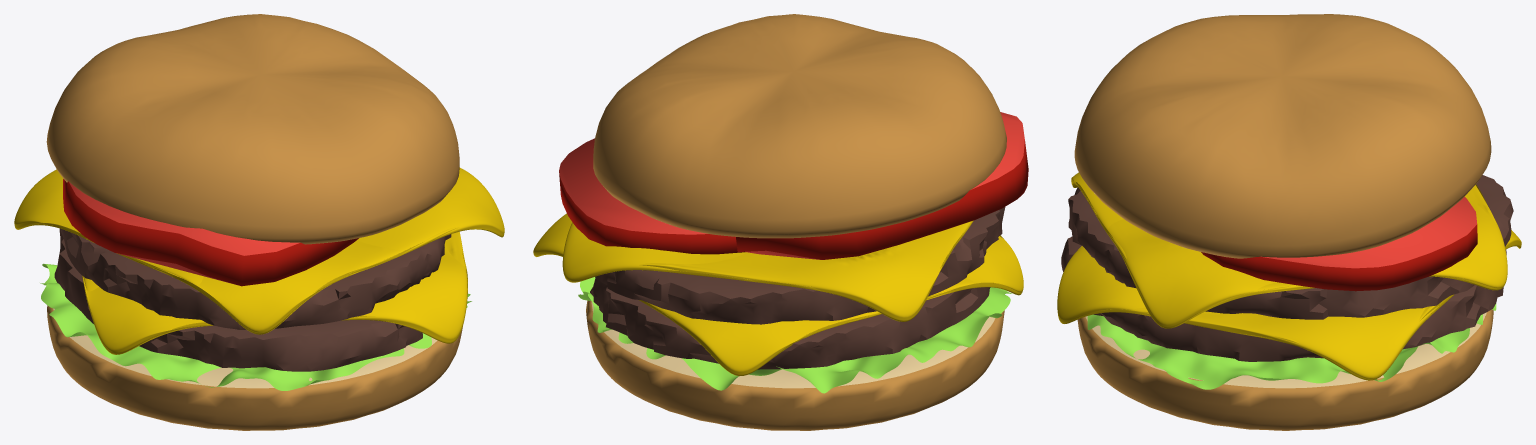
The model's file is burger-compressed.glb.
3 views of the same model, side by side, from view 1: azimuth 30°, elevation 25°; view 2: azimuth 150°, elevation 25°; view 3: azimuth 270°, elevation 25° (orthographic).
Parts seen in each view (by area): view 1: bun-top, bun-bottom, cheese-2, patty-2, tomato-1, patty-1, cheese-1, lettuce; view 2: bun-top, bun-bottom, cheese-2, patty-2, patty-1, cheese-1, tomato-1, tomato-2, lettuce; view 3: bun-top, bun-bottom, cheese-2, cheese-1, patty-2, tomato-2, patty-1, lettuce.
Boxes of the visible parts, x1,y1,x2,y2 form: bun-top: [46, 14, 459, 244]; bun-bottom: [47, 305, 462, 430]; cheese-2: [14, 167, 504, 334]; patty-2: [60, 228, 451, 329]; tomato-1: [63, 179, 358, 286]; patty-1: [54, 229, 422, 371]; cheese-1: [82, 231, 467, 354]; lettuce: [40, 263, 471, 390]; bun-top: [593, 14, 1006, 238]; bun-bottom: [586, 300, 1004, 430]; cheese-2: [562, 220, 973, 321]; patty-2: [595, 207, 1005, 324]; patty-1: [590, 278, 990, 369]; cheese-1: [533, 213, 1023, 376]; tomato-1: [736, 112, 1028, 259]; tomato-2: [559, 138, 745, 254]; lettuce: [578, 277, 1011, 393]; bun-top: [1074, 14, 1491, 258]; bun-bottom: [1077, 309, 1493, 430]; cheese-2: [1071, 172, 1507, 328]; cheese-1: [1057, 230, 1521, 380]; patty-2: [1068, 175, 1513, 319]; tomato-2: [1201, 196, 1477, 291]; patty-1: [1061, 236, 1506, 361]; lettuce: [1087, 303, 1496, 389].
Bounding box in the file's own units: 2.27 × 1.53 × 2.2.
